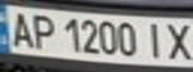0: (115, 19, 142, 57), (96, 18, 121, 56)
1: (57, 15, 81, 53)
2: (78, 16, 100, 55)
A: (3, 9, 36, 48)
I: (139, 19, 169, 60)
P: (27, 11, 60, 51)
X: (160, 19, 193, 62)
